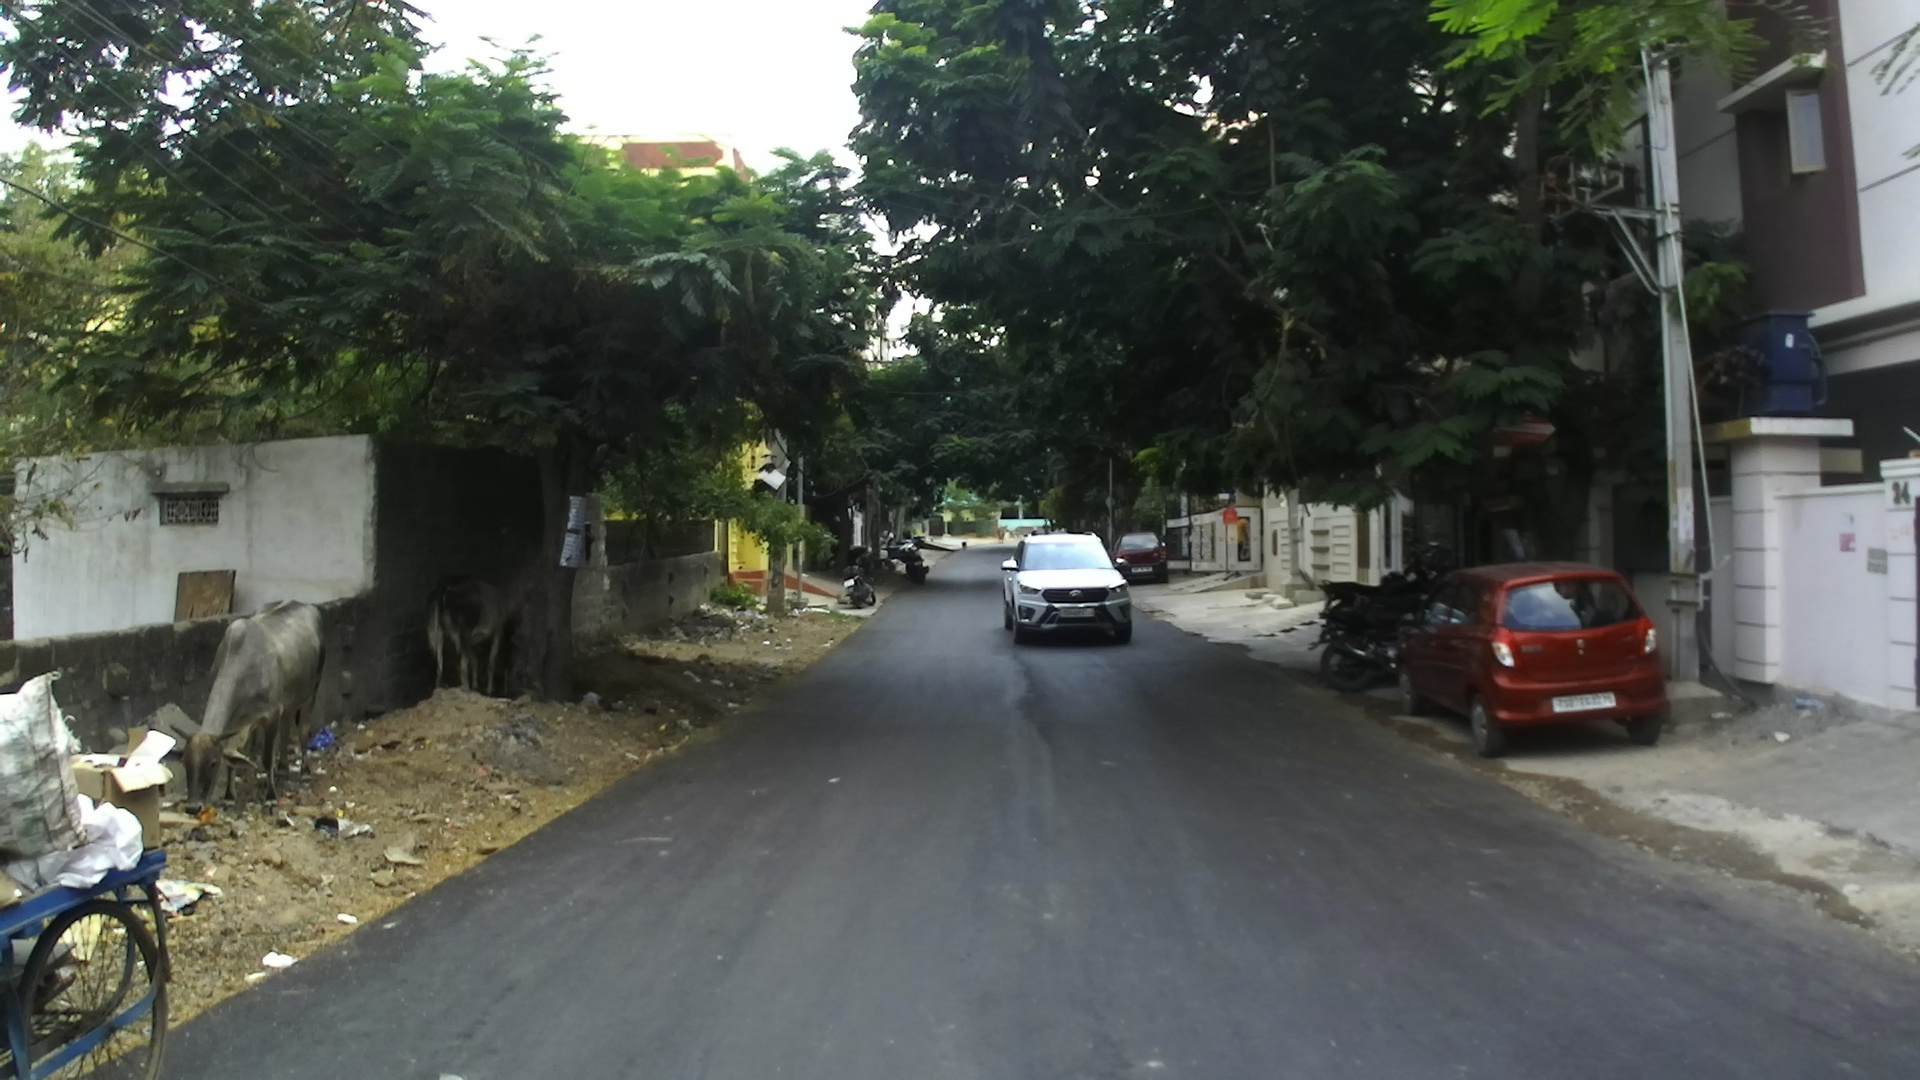vehicle: (1394, 560, 1669, 753), (1002, 531, 1135, 645), (1313, 574, 1439, 684), (1112, 534, 1167, 583)
